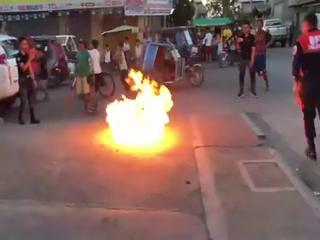Fire: (103, 66, 176, 151)
